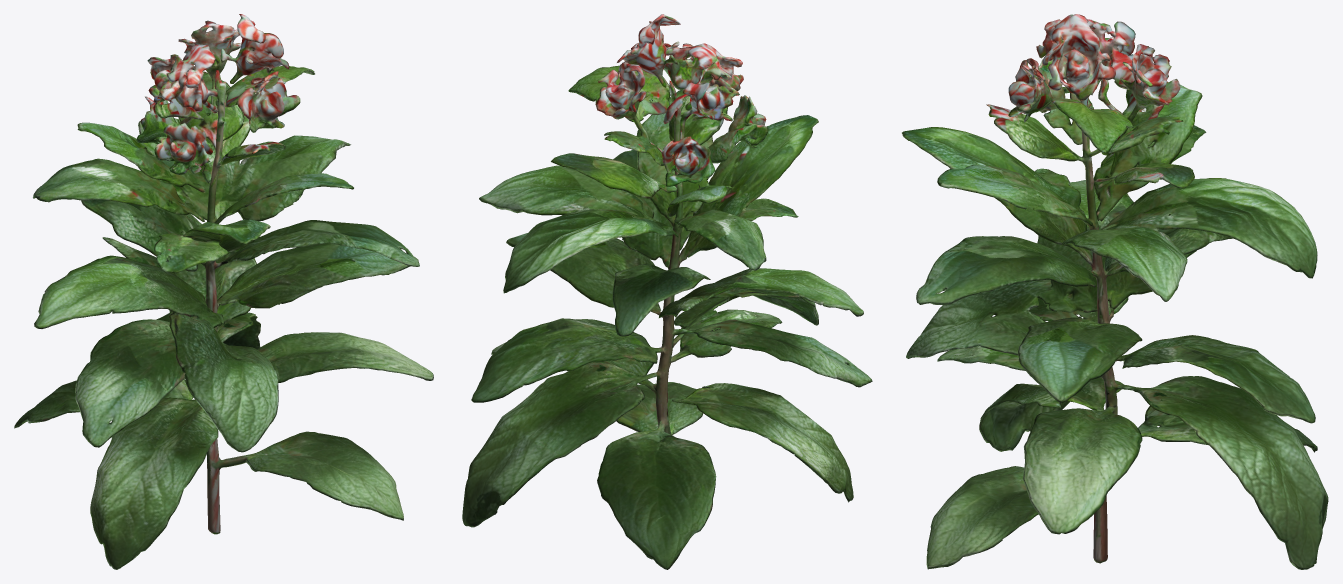
The model's file is Peppermint.glb.
3 renders of one model, left to right at view 1: azimuth 30°, elevation 25°; view 2: azimuth 150°, elevation 25°; view 3: azimuth 270°, elevation 25°, orthographic. The views are drawn at different scales.
Size of the model in its own units: 1.56 by 2 by 1.39.
Materials: 1 (1 with a texture image).
